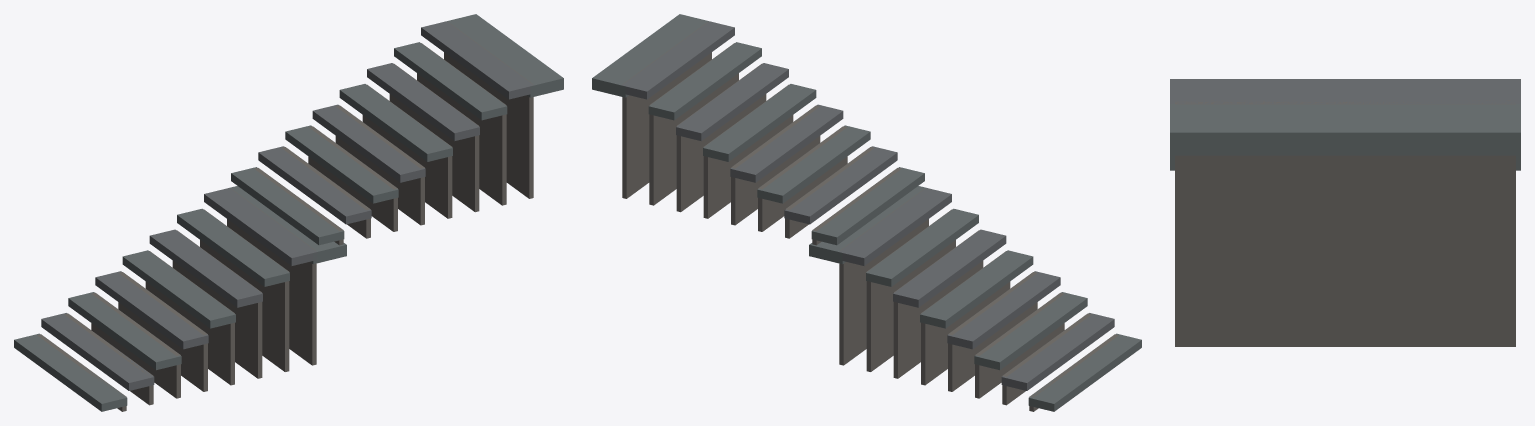
File: env_base99_stair_exterior_h4_visual_top3d_v002.glb
3 renders of one model, left to right at view 1: azimuth 30°, elevation 25°; view 2: azimuth 150°, elevation 25°; view 3: azimuth 270°, elevation 25°, orthographic. The views are drawn at different scales.
Visible parts, largest first — view 1: 外门小楼梯_主体_金属哑光反光_上半段, 外门小楼梯_主体_金属哑光反光; view 2: 外门小楼梯_主体_金属哑光反光_上半段, 外门小楼梯_主体_金属哑光反光; view 3: 外门小楼梯_主体_金属哑光反光_上半段, 外门小楼梯_主体_金属哑光反光.
Part boxes in pixels (x1=…): 外门小楼梯_主体_金属哑光反光_上半段: x1=231, y1=14, x2=563, y2=245; 外门小楼梯_主体_金属哑光反光: x1=14, y1=186, x2=346, y2=411; 外门小楼梯_主体_金属哑光反光_上半段: x1=592, y1=14, x2=924, y2=245; 外门小楼梯_主体_金属哑光反光: x1=809, y1=186, x2=1141, y2=411; 外门小楼梯_主体_金属哑光反光_上半段: x1=1170, y1=79, x2=1520, y2=331; 外门小楼梯_主体_金属哑光反光: x1=1170, y1=155, x2=1520, y2=346.
Bounding box in the file's own units: 8.52 × 4 × 2.8.
Materials: 2 (2 with a texture image).
